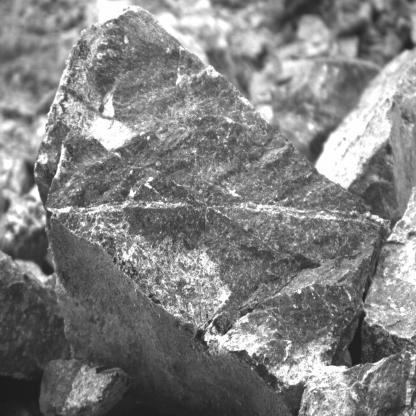stone: (33, 5, 392, 416)
